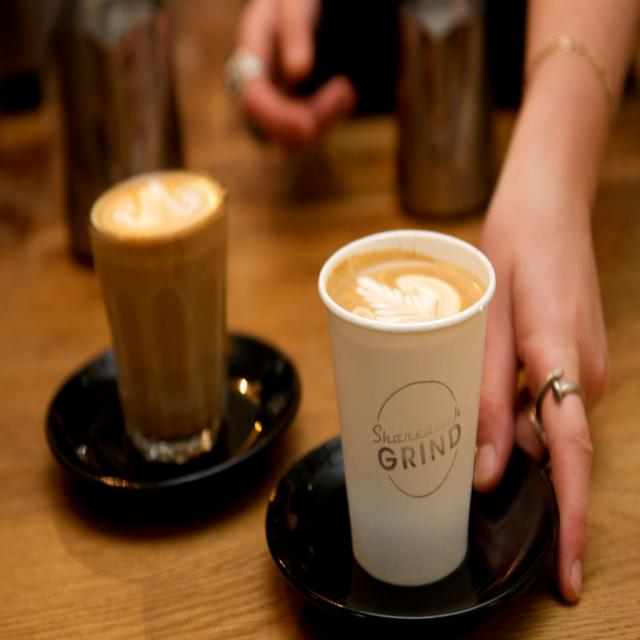Coffee: (316, 228, 496, 609), (94, 173, 224, 230)
